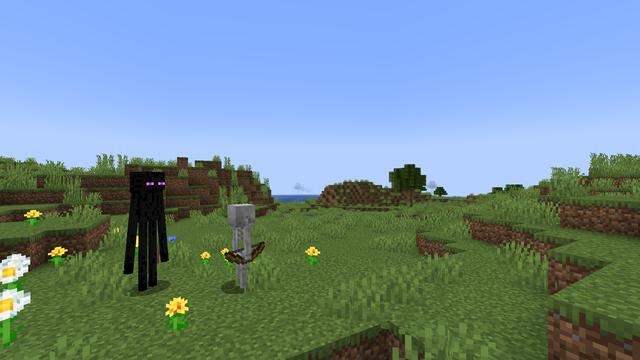endermens: (130, 167, 161, 294)
squelettes: (226, 203, 256, 291)
